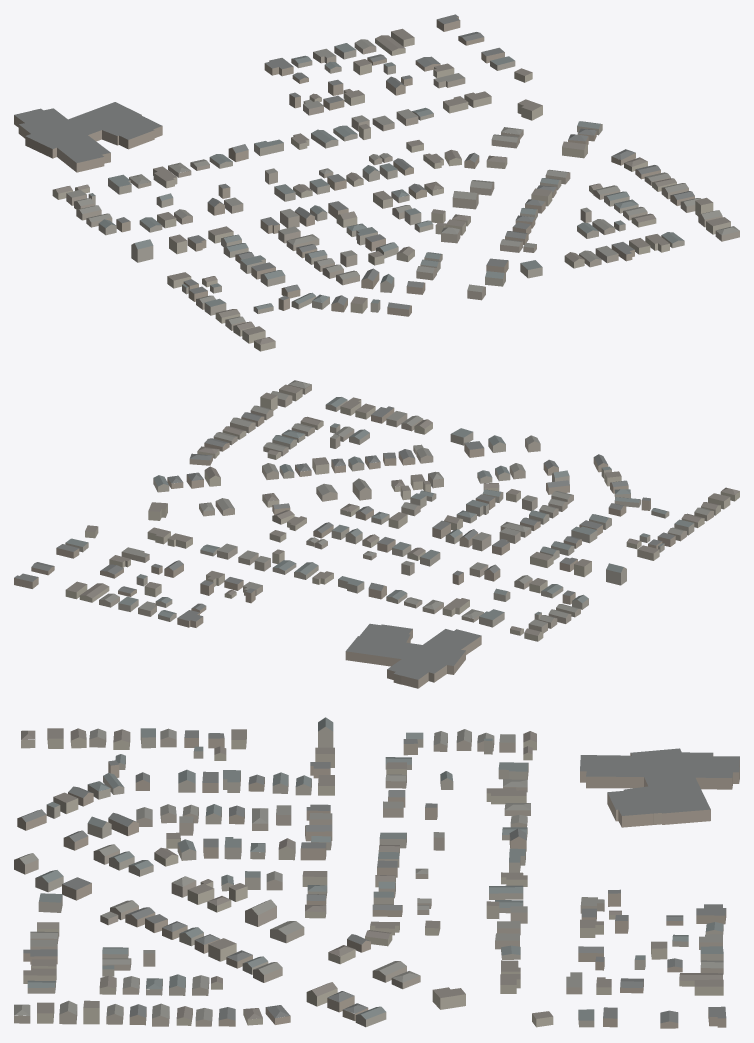
Rendered from 0396f74f8b25-chunk-1198_11843.glb.
The picture shows the model from 3 angles, top to bottom: view 1: azimuth 30°, elevation 25°; view 2: azimuth 150°, elevation 25°; view 3: azimuth 270°, elevation 25°; orthographic projection. The views are drawn at different scales.
Parts seen in each view (by area): view 1: building_83250; view 2: building_83250; view 3: building_83250, building_149625, building_2659, building_22540, building_43901, building_137900, building_156350, building_47531, building_26950.
Boxes of the visible parts, x1,y1,x2,y2 form: building_83250: (14,102,162,172); building_83250: (345,623,481,688); building_83250: (580,748,739,827); building_149625: (432,987,465,1009); building_2659: (245,899,276,926); building_22540: (486,788,526,804); building_43901: (270,921,304,943); building_137900: (696,904,726,924); building_156350: (498,762,528,779); building_47531: (62,877,91,900); building_26950: (187,879,214,904).
Size of the model in its own units: 361 by 12.44 by 382.
